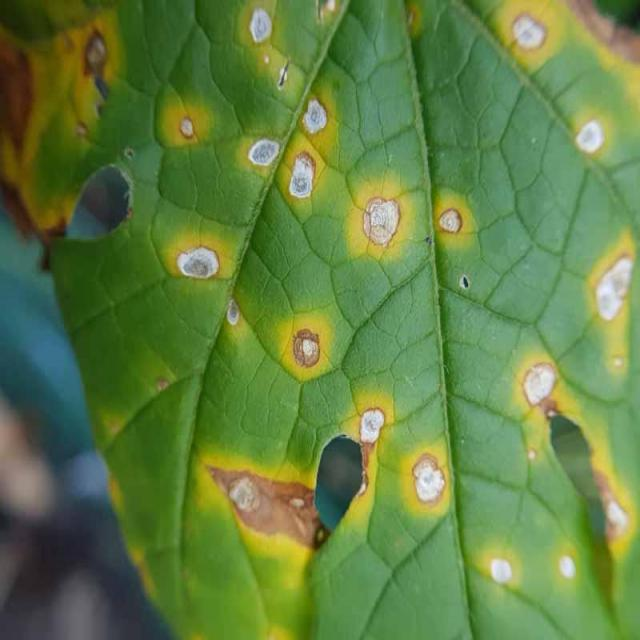blight: (206, 439, 334, 573)
